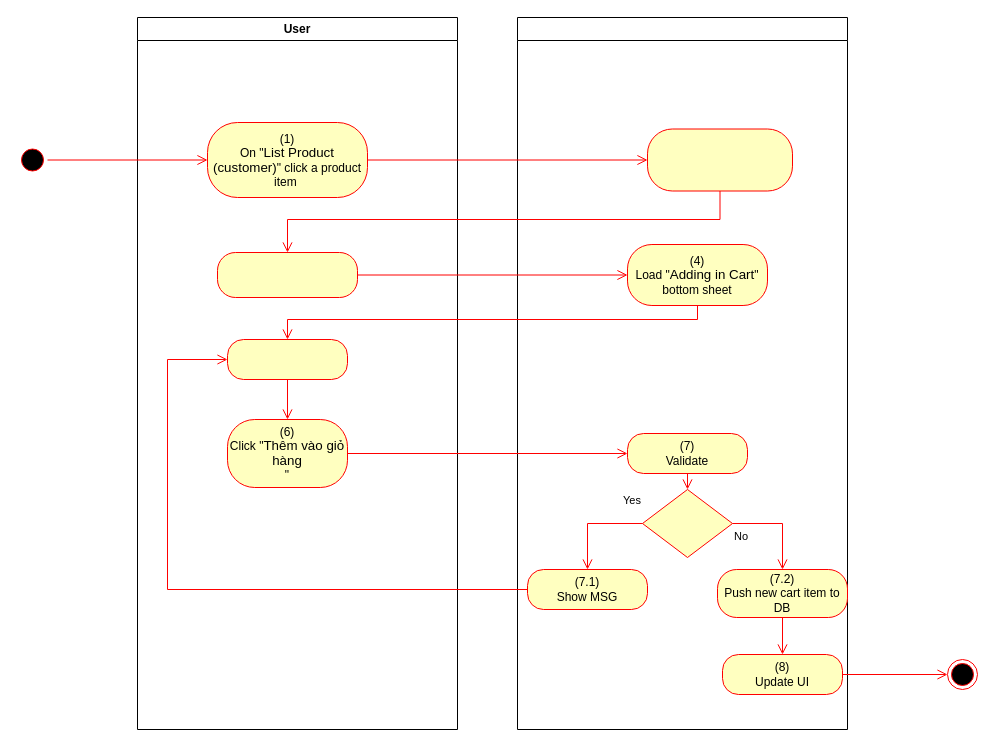
This 995x747 diagram has some shape labels left out. The shapes that lost their labels are listed below. From the top down, each one's box as (x1, y1, x2, y2) in pixels, then its label:
(646, 128, 792, 191): (2) Load " Product detail " Screen
(216, 252, 358, 298): (3) Click button " Thêm vào giỏ hàng "
(226, 338, 348, 380): (5) Giving input
(516, 16, 848, 730): System
